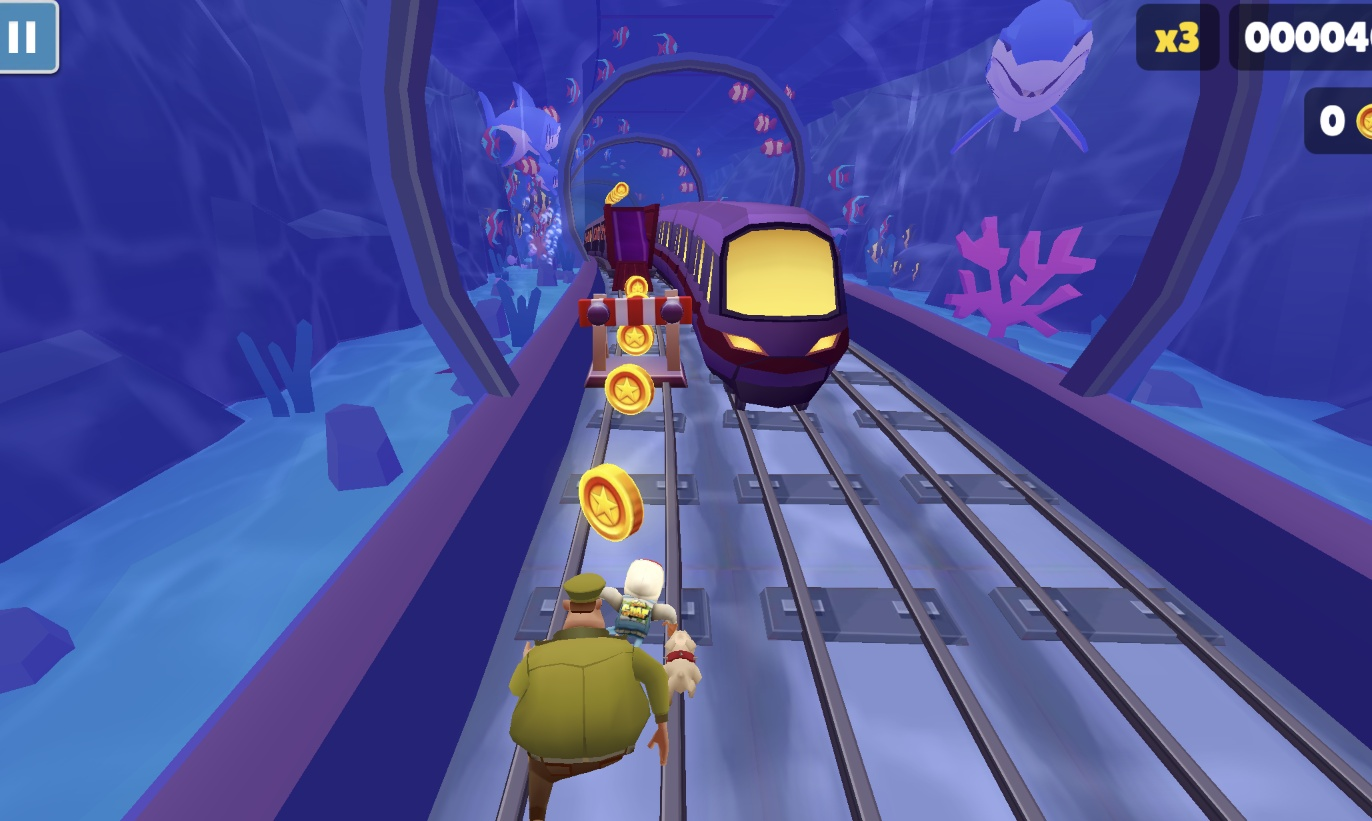ground_barrier: (577, 295, 685, 383)
train: (652, 201, 853, 414), (583, 199, 659, 305)
